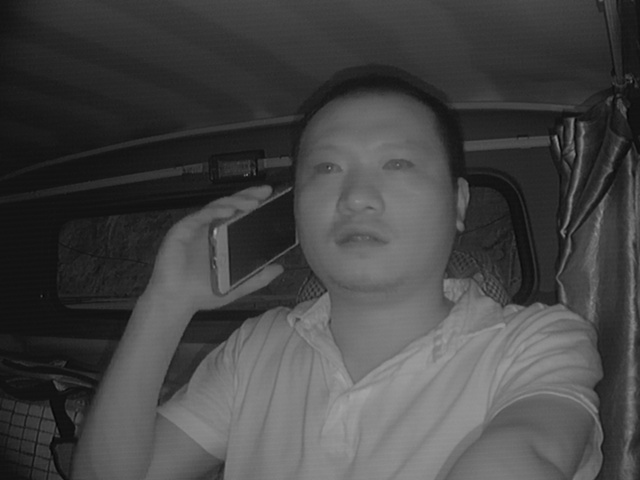hand: (145, 180, 288, 312)
